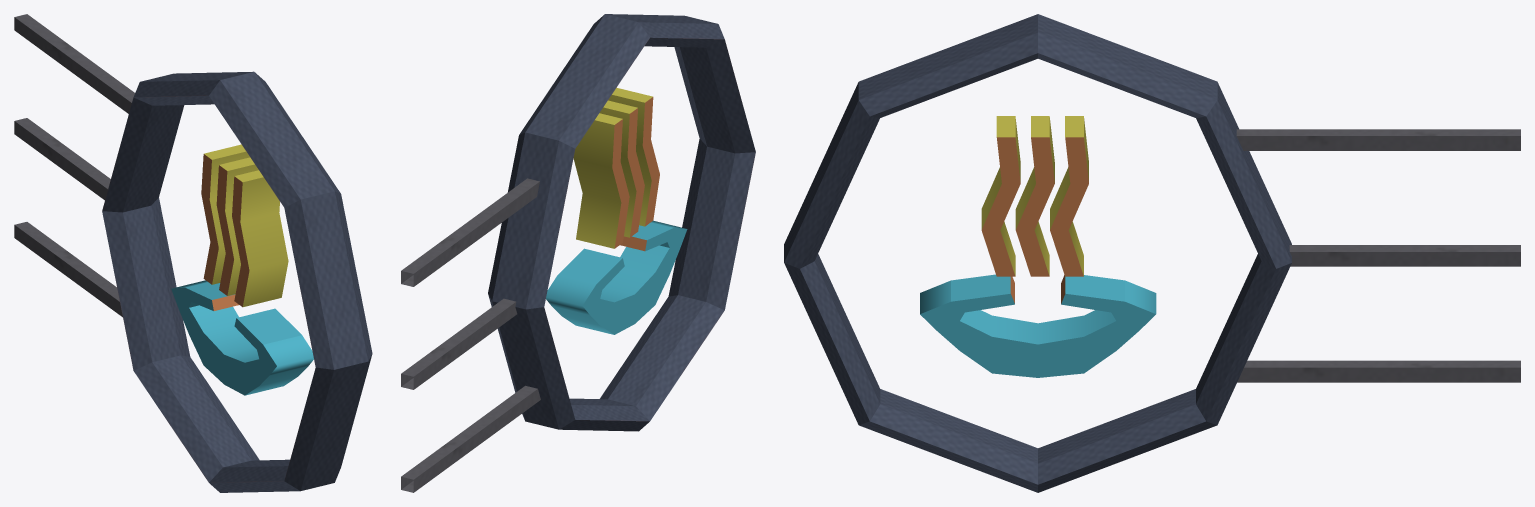
Rendered from Ad03_Art.glb.
3 views of the same model, side by side, from view 1: azimuth 30°, elevation 25°; view 2: azimuth 150°, elevation 25°; view 3: azimuth 270°, elevation 25° (orthographic). The views are drawn at different scales.
Parts seen in each view (by area): view 1: Ad03_Art; view 2: Ad03_Art; view 3: Ad03_Art.
Part boxes in pixels (box(x1,y1,x2,y2)): Ad03_Art: box(14, 14, 372, 492); Ad03_Art: box(401, 14, 755, 492); Ad03_Art: box(784, 14, 1520, 492).
Size of the model in its own units: 0.5731 by 3.98 by 5.77.
Materials: 1 (1 with a texture image).
